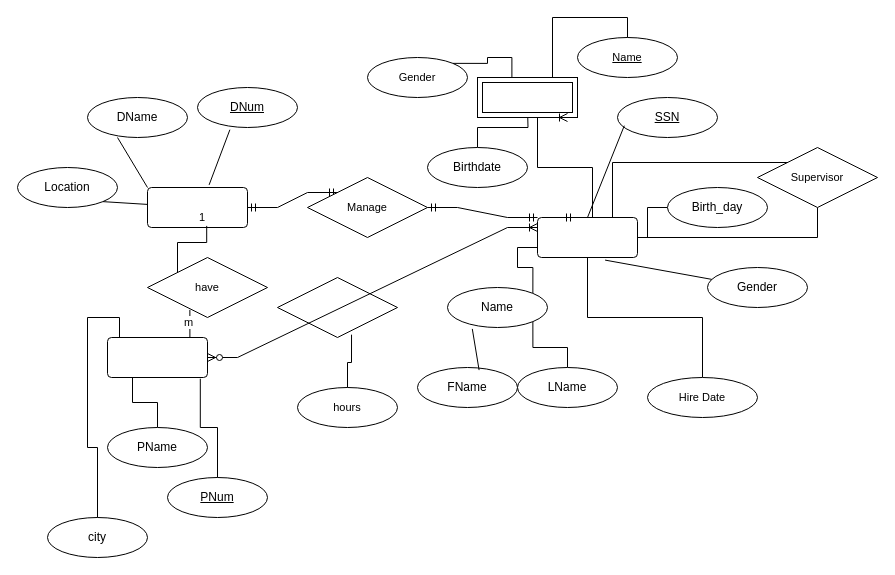
This 895x575 diagram has some shape labels left out. Each missing label, with the centre of its shape:
Department: the point at 197,207
Dependent: the point at 527,97
Employee: the point at 587,237
Project: the point at 157,357
Work: the point at 337,307
